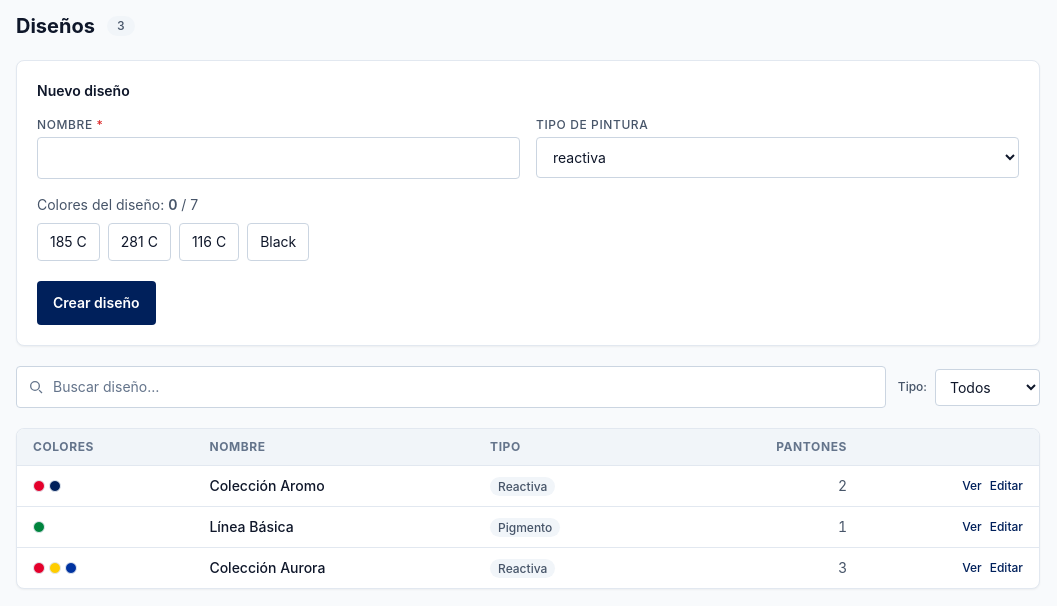
Scenario: DesignsPage › filters designs by name when typing in search
This screenshot has width=1057, height=606.
In the search field with placeholder "Buscar diseño…": [451, 387] box [16,366,886,408], type "Aromo"
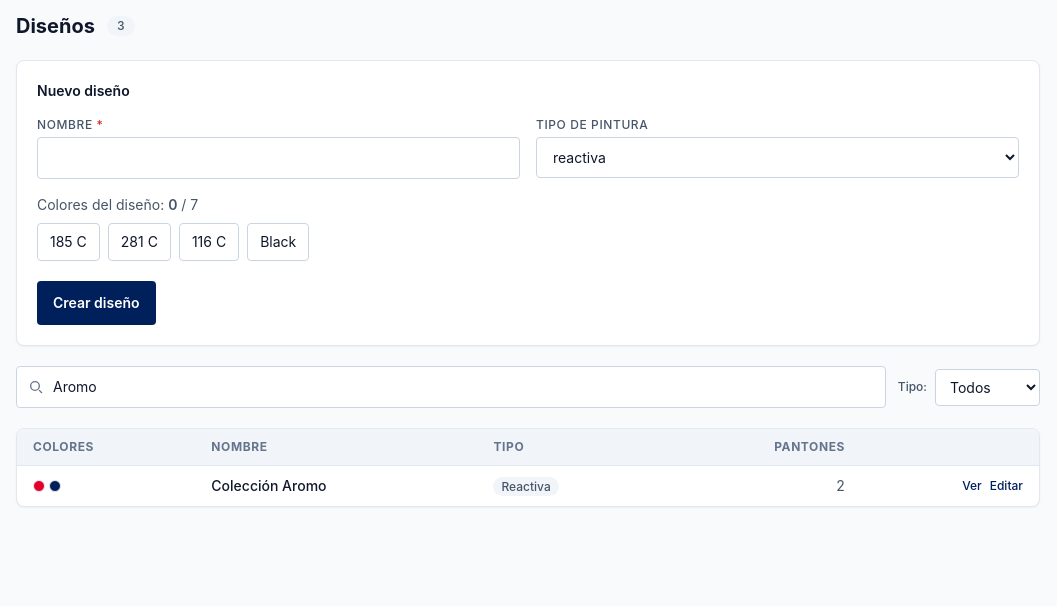
Result: the text "Línea Básica" is gone
Result: the text "Colección Aurora" is gone
